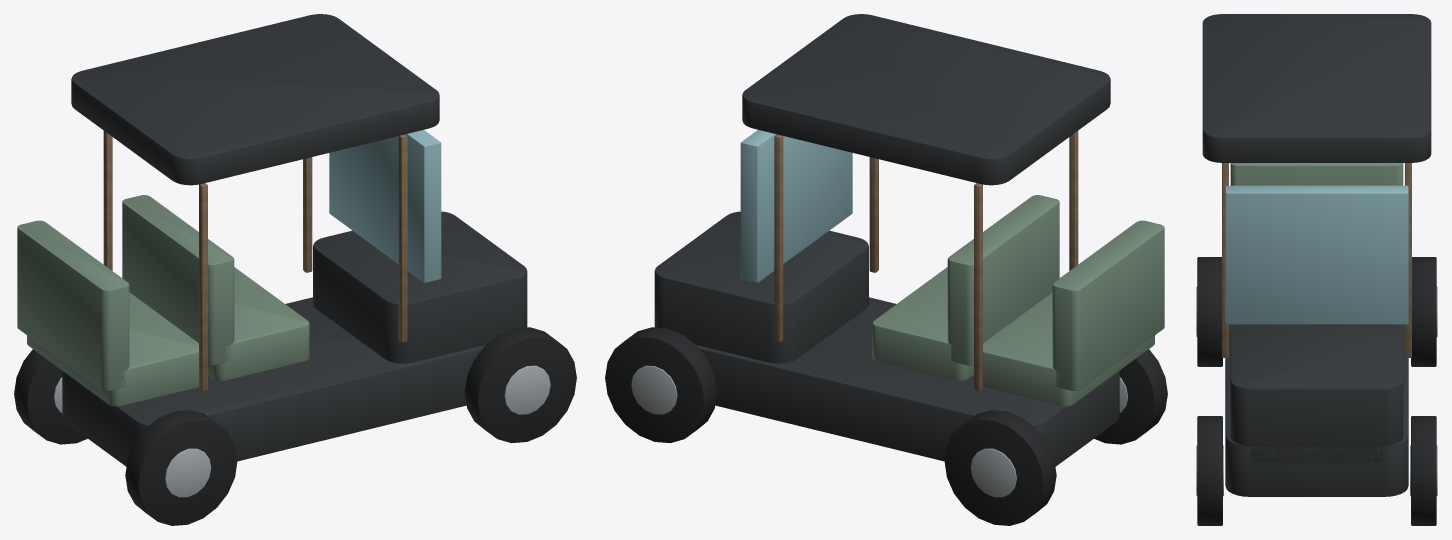
The model's file is golf_cart_premium.glb.
3 renders of one model, left to right at view 1: azimuth 30°, elevation 25°; view 2: azimuth 150°, elevation 25°; view 3: azimuth 270°, elevation 25°, orthographic. The views are drawn at different scales.
Visible parts, largest first — view 1: Canopy_Roof, GolfCart_Chassis, GolfCart_Hood, GolfCart_SeatBack_2, GolfCart_Windshield, GolfCart_SeatBack_1, CartWheel_Front_L_Tire, CartWheel_Rear_L_Tire, GolfCart_Seat_2, GolfCart_Seat_1, CartWheel_Rear_R_Tire, Canopy_Post_2_1 (+5 smaller); view 2: Canopy_Roof, GolfCart_Chassis, GolfCart_Hood, GolfCart_SeatBack_2, GolfCart_Windshield, GolfCart_SeatBack_1, CartWheel_Front_R_Tire, CartWheel_Rear_R_Tire, GolfCart_Seat_2, GolfCart_Seat_1, CartWheel_Rear_L_Tire, Canopy_Post_2_2 (+5 smaller); view 3: Canopy_Roof, GolfCart_Windshield, GolfCart_Hood, GolfCart_Chassis, GolfCart_SeatBack_1, CartWheel_Front_L_Tire, CartWheel_Front_R_Tire, CartWheel_Rear_L_Tire, CartWheel_Rear_R_Tire, Canopy_Post_2_1, Canopy_Post_2_2.
Boxes of the visible parts, x1,y1,x2,y2 form: Canopy_Roof: (71, 14, 439, 185); GolfCart_Chassis: (62, 297, 485, 466); GolfCart_Hood: (313, 211, 527, 363); GolfCart_SeatBack_2: (17, 220, 129, 390); GolfCart_Windshield: (329, 130, 441, 282); GolfCart_SeatBack_1: (122, 195, 234, 365); CartWheel_Front_L_Tire: (464, 327, 576, 443); CartWheel_Rear_L_Tire: (125, 410, 237, 525); GolfCart_Seat_2: (27, 292, 198, 406); GolfCart_Seat_1: (208, 267, 309, 380); CartWheel_Rear_R_Tire: (14, 349, 87, 444); Canopy_Post_2_1: (398, 134, 407, 342); Canopy_Roof: (742, 14, 1110, 185); GolfCart_Chassis: (696, 297, 1119, 466); GolfCart_Hood: (654, 211, 868, 363); GolfCart_SeatBack_2: (1052, 220, 1164, 390); GolfCart_Windshield: (740, 130, 852, 282); GolfCart_SeatBack_1: (947, 195, 1059, 365); CartWheel_Front_R_Tire: (605, 327, 717, 443); CartWheel_Rear_R_Tire: (944, 410, 1056, 525); GolfCart_Seat_2: (983, 292, 1154, 406); GolfCart_Seat_1: (872, 267, 973, 380); CartWheel_Rear_L_Tire: (1094, 349, 1167, 444); Canopy_Post_2_2: (774, 134, 783, 342); Canopy_Roof: (1202, 14, 1431, 162); GolfCart_Windshield: (1225, 185, 1408, 324); GolfCart_Hood: (1230, 324, 1403, 463); GolfCart_Chassis: (1225, 324, 1408, 496); GolfCart_SeatBack_1: (1230, 163, 1403, 185); CartWheel_Front_L_Tire: (1197, 416, 1222, 525); CartWheel_Front_R_Tire: (1411, 416, 1436, 525); CartWheel_Rear_L_Tire: (1197, 257, 1222, 366); CartWheel_Rear_R_Tire: (1411, 257, 1436, 366); Canopy_Post_2_1: (1222, 163, 1228, 357); Canopy_Post_2_2: (1405, 163, 1411, 357).
Size of what is drawn, in the model's own units: 2.48 by 1.88 by 1.18.
Materials: 6 (1 with a texture image).
